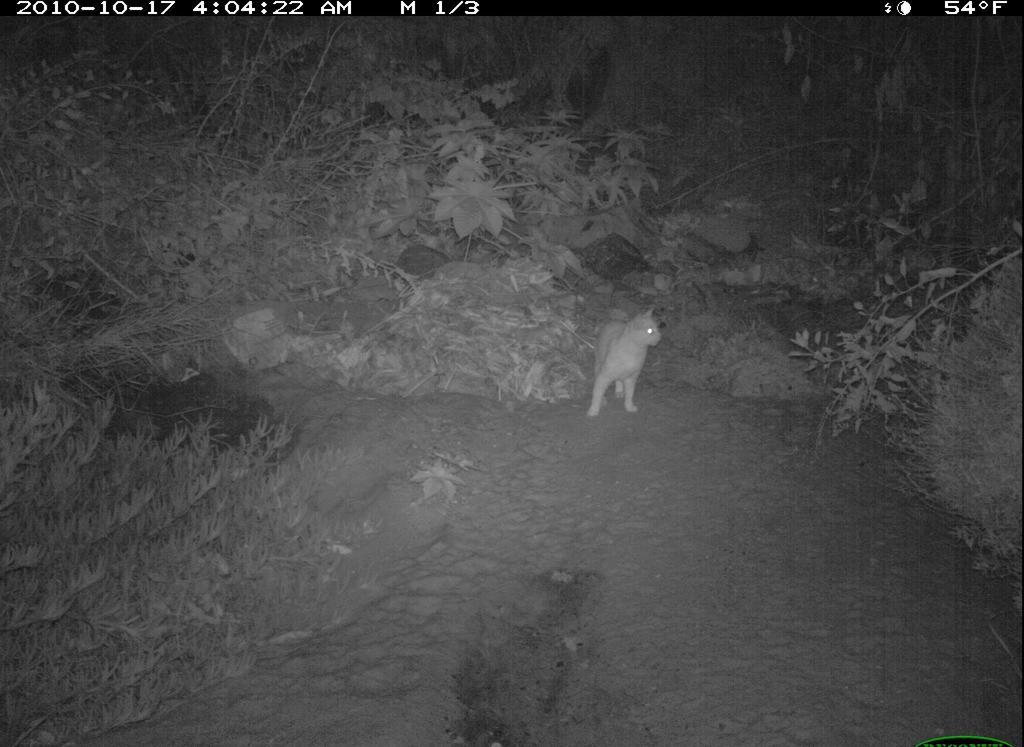cat: (584, 303, 665, 425)
